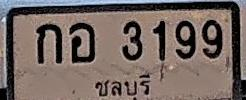1: (153, 20, 166, 61)
3: (122, 20, 142, 60)
9: (202, 19, 222, 58), (175, 20, 195, 58)
A01: (36, 23, 62, 63)
A43: (69, 22, 95, 62)
CBI: (91, 72, 153, 100)
